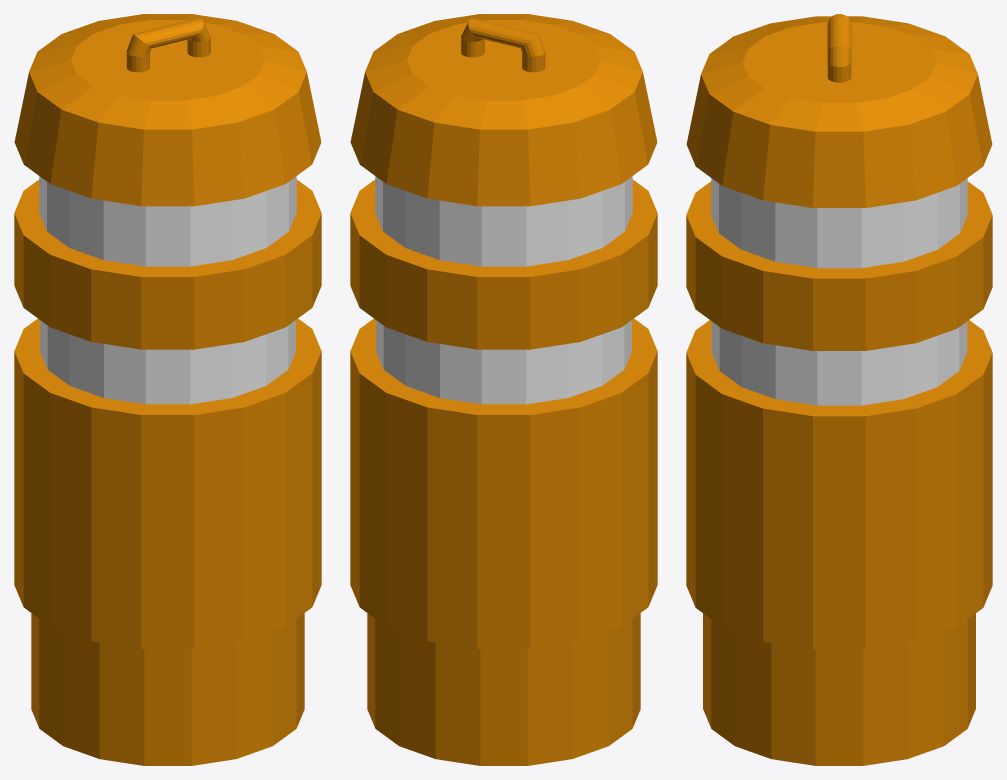
File: balizador_cilindrico.fbx
The picture shows the model from 3 angles, left to right: view 1: azimuth 30°, elevation 25°; view 2: azimuth 150°, elevation 25°; view 3: azimuth 270°, elevation 25°; orthographic projection.
Visible parts, largest first — view 1: balizador_cilindrico; view 2: balizador_cilindrico; view 3: balizador_cilindrico.
Part boxes in pixels (x1,y1,x2,y2): balizador_cilindrico: (14,14,321,765); balizador_cilindrico: (350,14,657,765); balizador_cilindrico: (686,14,992,765).
Bounding box in the file's own units: 38.83 × 96.45 × 39.43.
